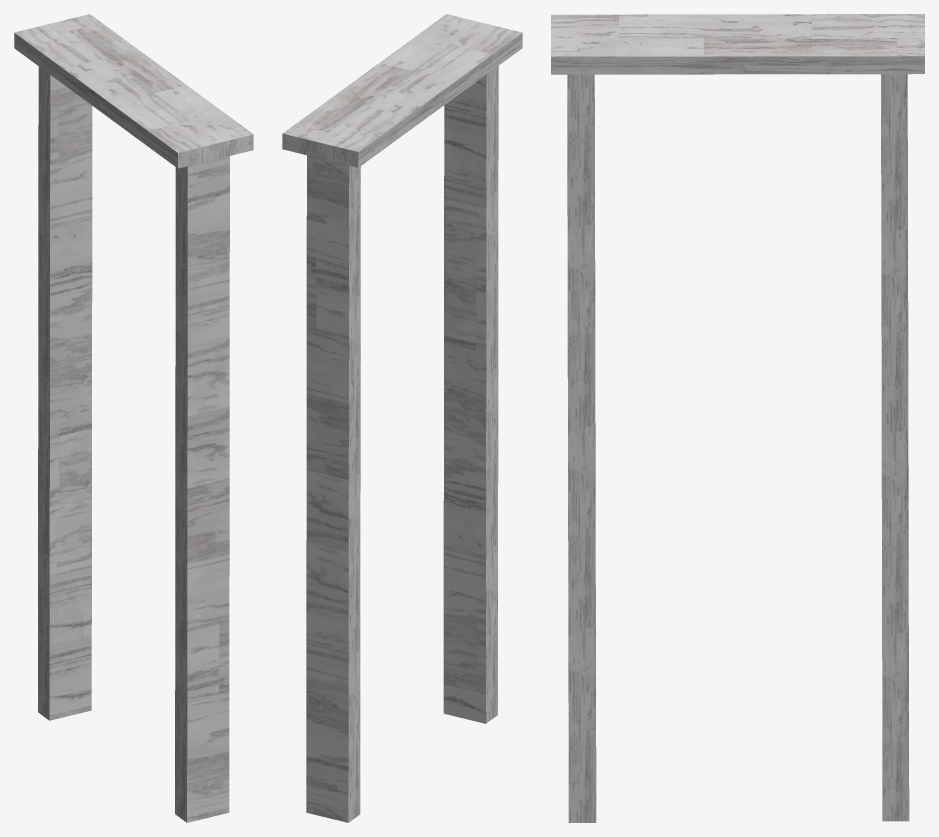
File: DoorFrame.fbx
3 views of the same model, side by side, from view 1: azimuth 30°, elevation 25°; view 2: azimuth 150°, elevation 25°; view 3: azimuth 270°, elevation 25° (orthographic). The views are drawn at different scales.
Visible parts, largest first — view 1: pCube11; view 2: pCube11; view 3: pCube11.
Part boxes in pixels (left/top/right/bottom): pCube11: left=14, top=14, right=253, bottom=822; pCube11: left=282, top=14, right=522, bottom=822; pCube11: left=551, top=14, right=924, bottom=822.
Size of the model in its own units: 6.82 by 58.51 by 25.54.
